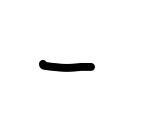minus: (39, 60, 95, 72)
